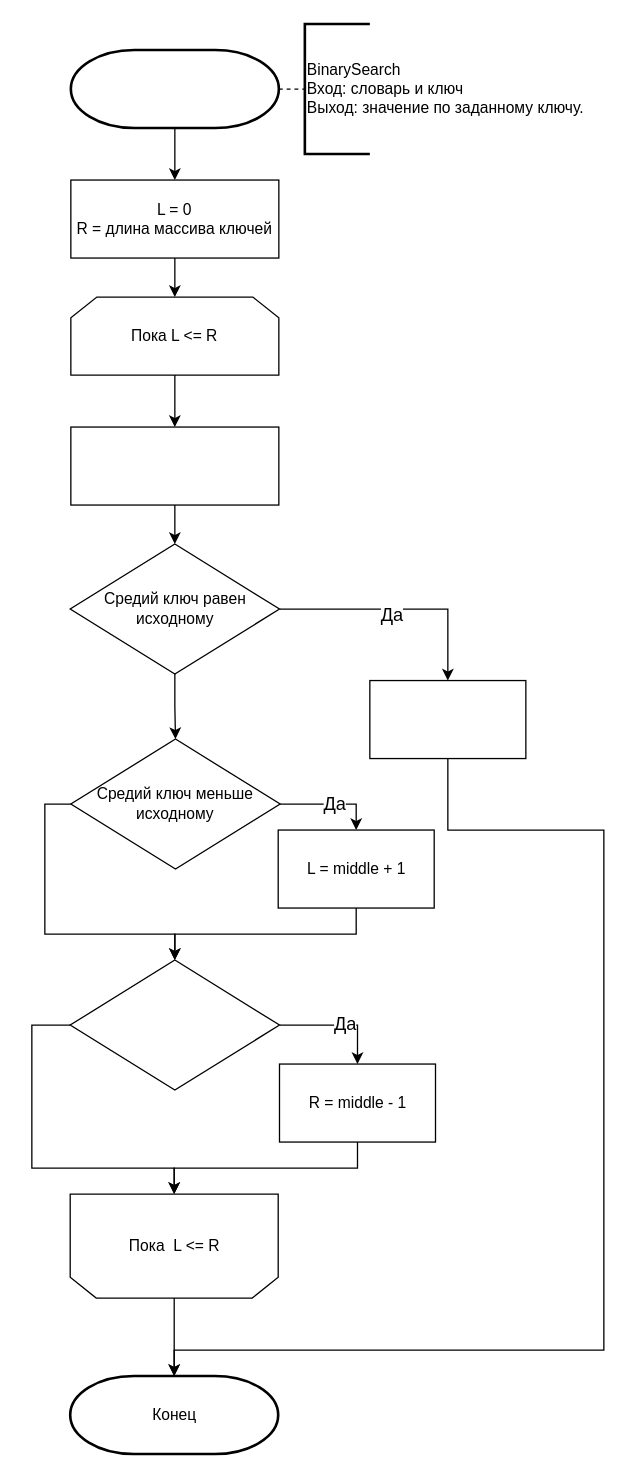
The diagram is 637 pixels wide and 1477 high, and some of its shapes have lost their labels. The shapes that lost their labels are listed below. From the top down, each one's box as (x1, y1, x2, y2) in pixels, then its label:
(69, 48, 280, 129): Начало
(70, 426, 279, 505): middle = (L + R) / 2
(369, 679, 526, 759): Вернуть значение текущего ключа
(69, 959, 280, 1090): Средий ключ больше исходному
